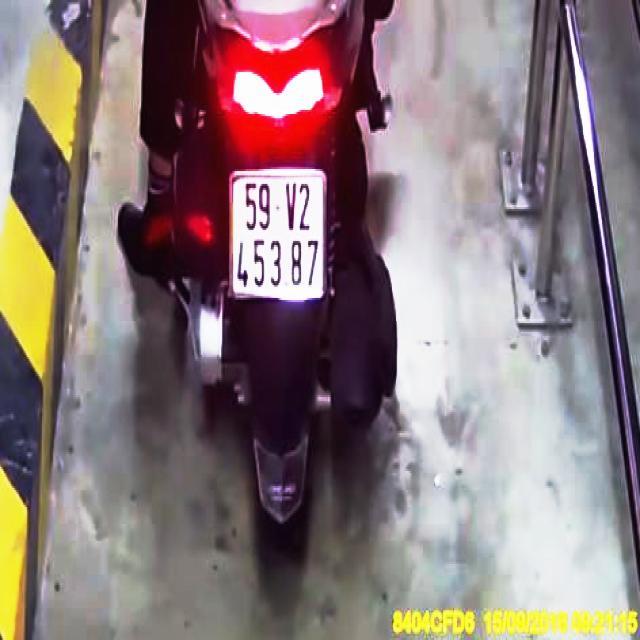license_plate: (232, 171, 327, 301)
